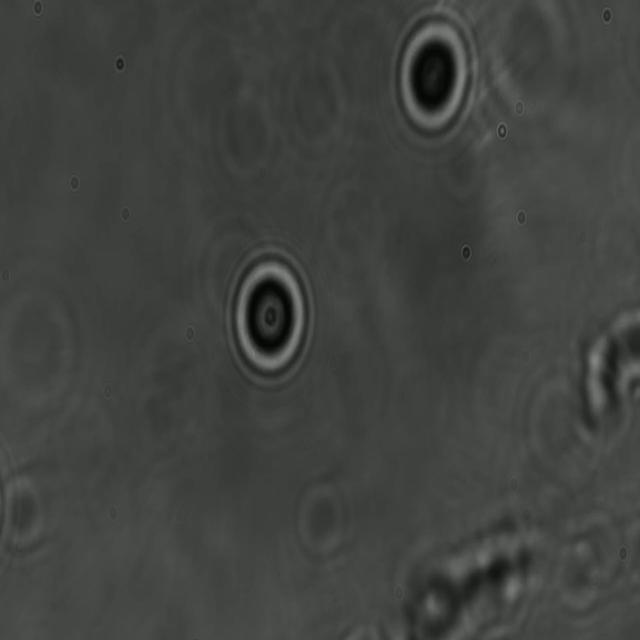LCELL: (222, 239, 318, 396)
